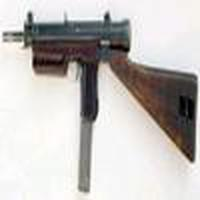gun: (1, 13, 200, 142)
